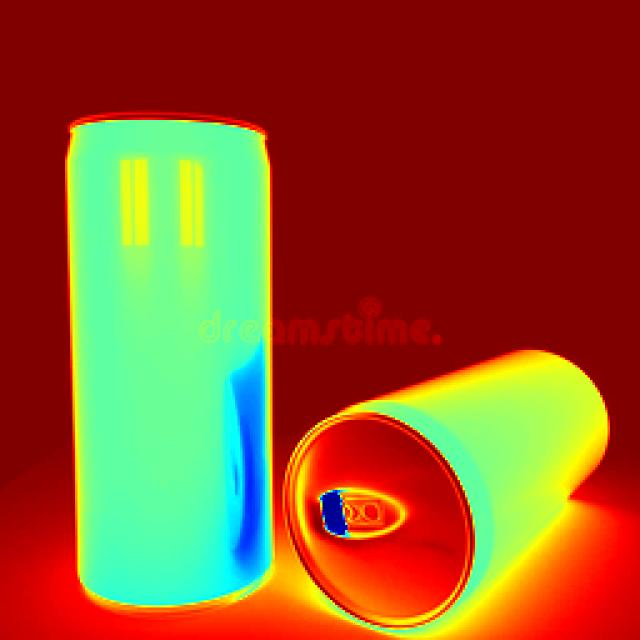Aluminium Food Cans: (55, 97, 298, 612), (275, 302, 593, 640)
